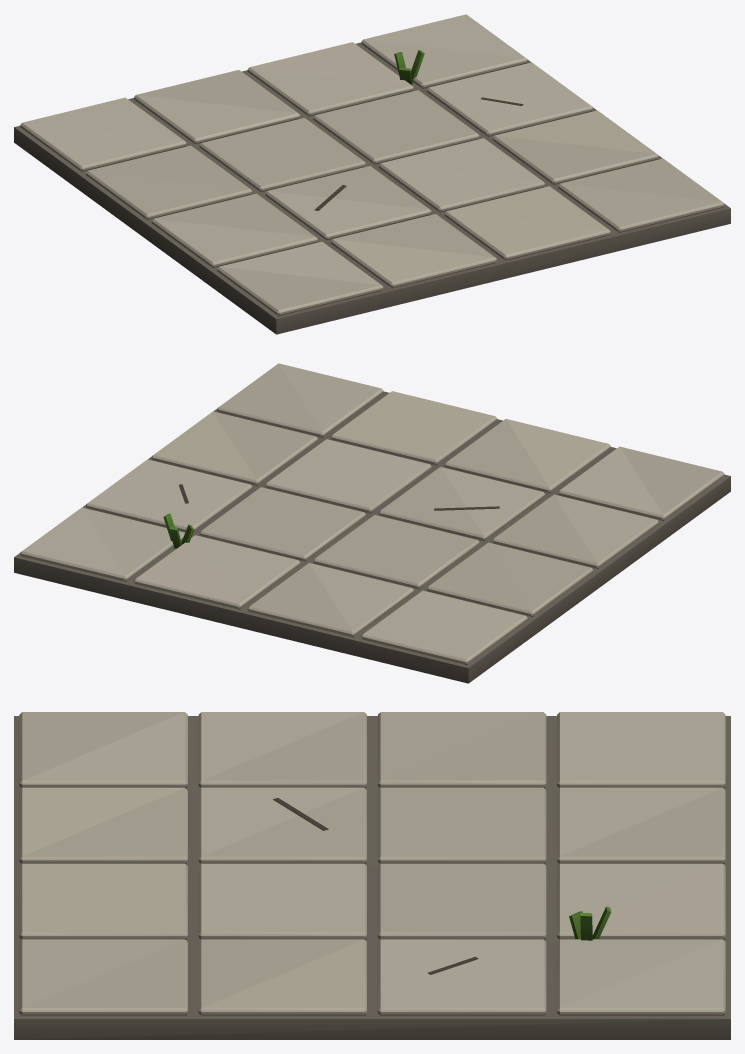
The model's file is platform-apron-tile.glb.
The picture shows the model from 3 angles, top to bottom: view 1: azimuth 30°, elevation 25°; view 2: azimuth 150°, elevation 25°; view 3: azimuth 270°, elevation 25°; orthographic projection. The views are drawn at different scales.
Visible parts, largest first — view 1: platform_apron_tile; view 2: platform_apron_tile; view 3: platform_apron_tile.
Part boxes in pixels (x1,y1,x2,y2): platform_apron_tile: (14, 14, 730, 334); platform_apron_tile: (14, 363, 730, 683); platform_apron_tile: (14, 712, 730, 1039).
Size of the model in its own units: 4 by 0.366 by 4.
